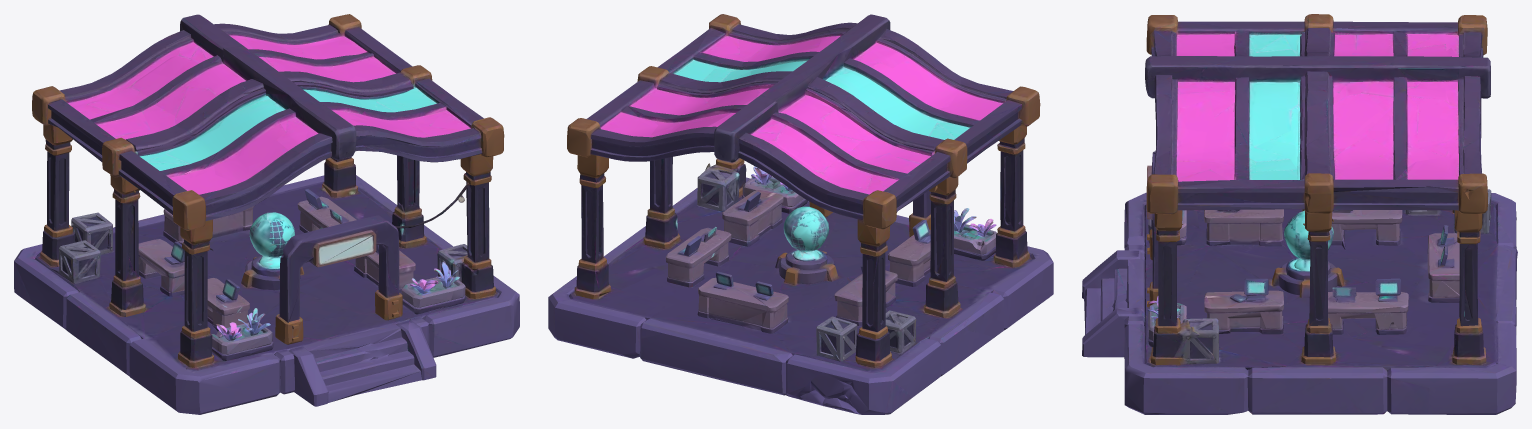
Rendered from bld-marketplace.glb.
The picture shows the model from 3 angles, left to right: view 1: azimuth 30°, elevation 25°; view 2: azimuth 150°, elevation 25°; view 3: azimuth 270°, elevation 25°; orthographic projection. The views are drawn at different scales.
Size of the model in its own units: 1.9 by 1.28 by 1.9.
1 material, 1 textured.
